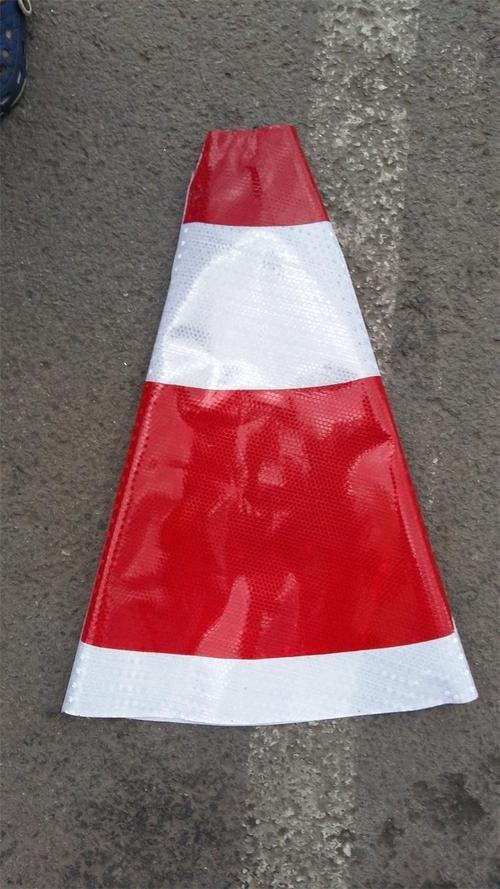cone_barrel: (55, 102, 467, 760)
